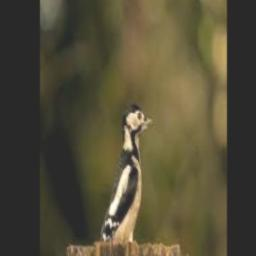Woodpecker: (100, 105, 154, 242)
